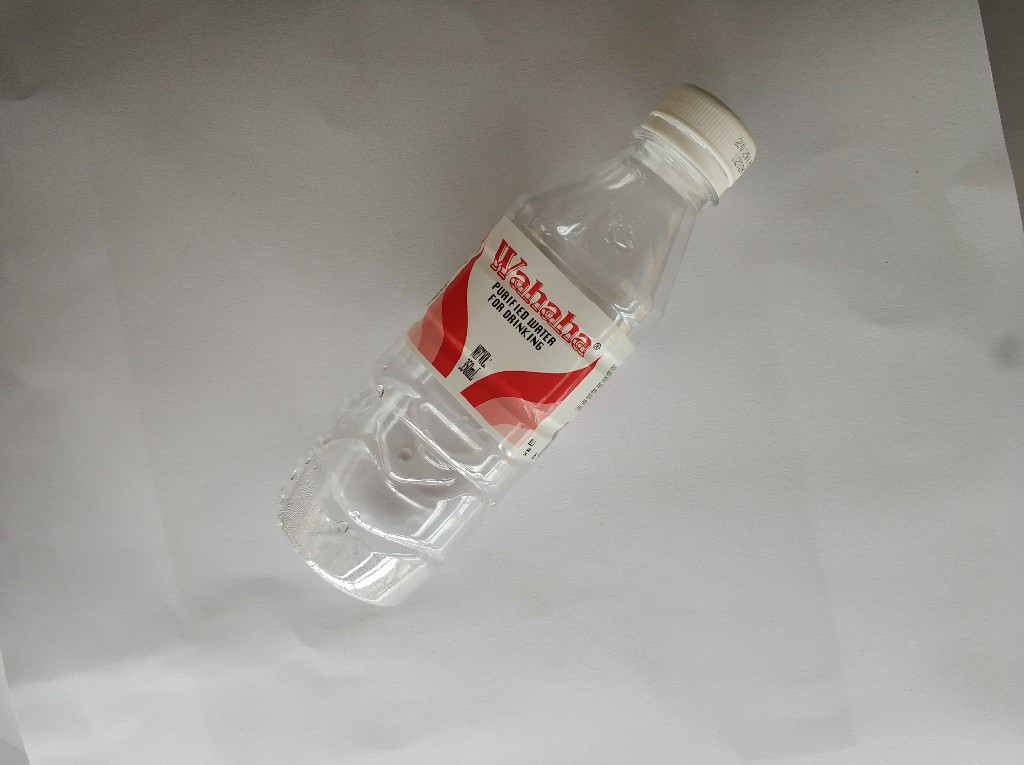bottle: (269, 78, 760, 617)
